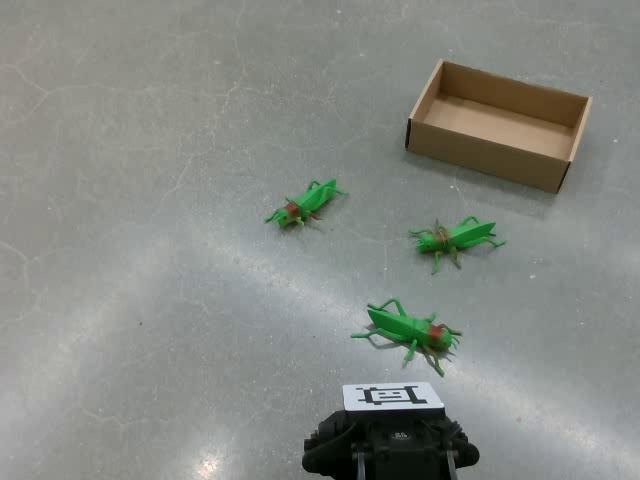box: (403, 57, 593, 194)
grasshopper: (350, 296, 462, 377), (407, 214, 506, 275), (263, 177, 348, 230)
